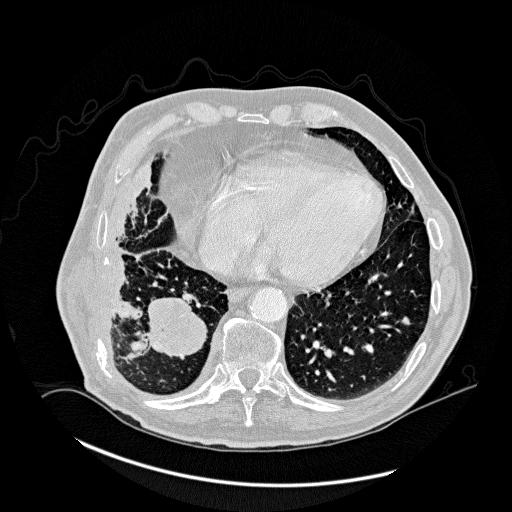nodule: (400, 315, 411, 326)
